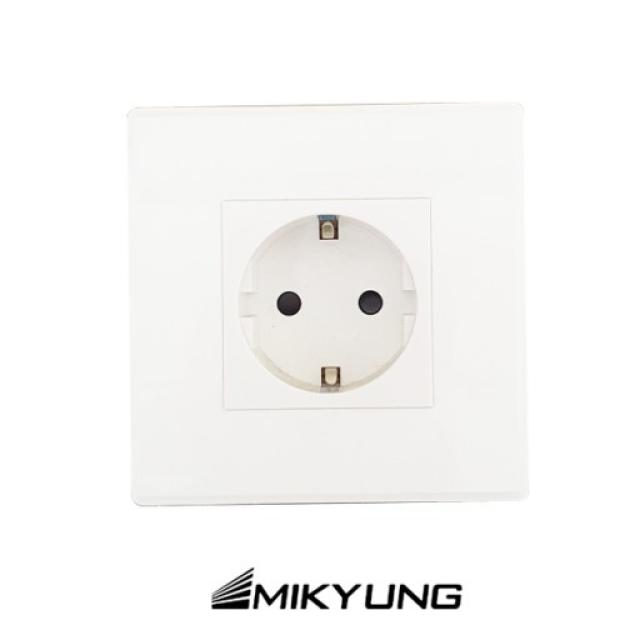typeb: (72, 77, 581, 547)
